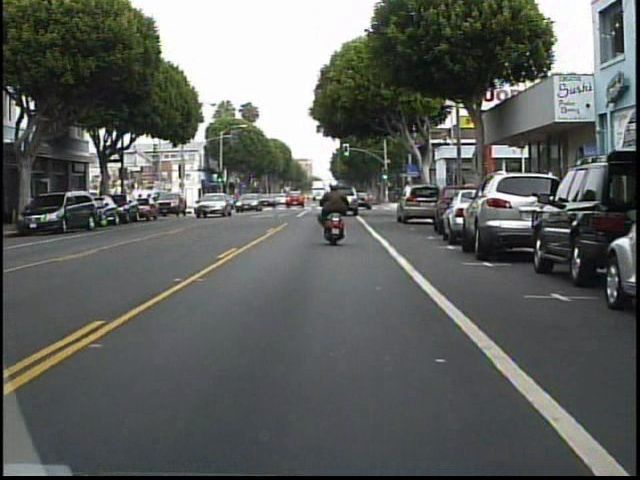person: (319, 176, 356, 246)
